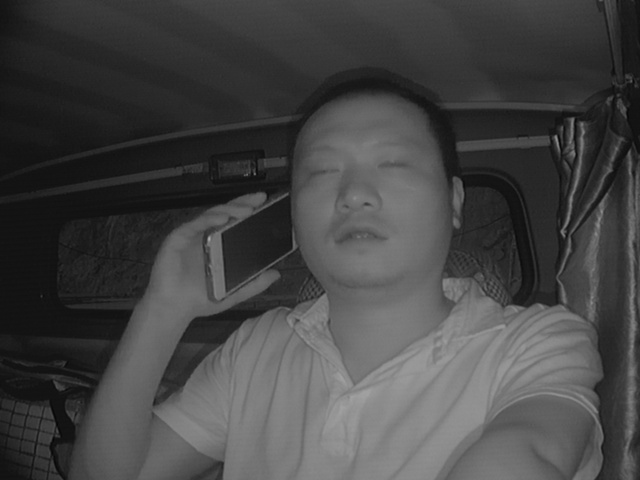hand: (144, 192, 271, 311)
